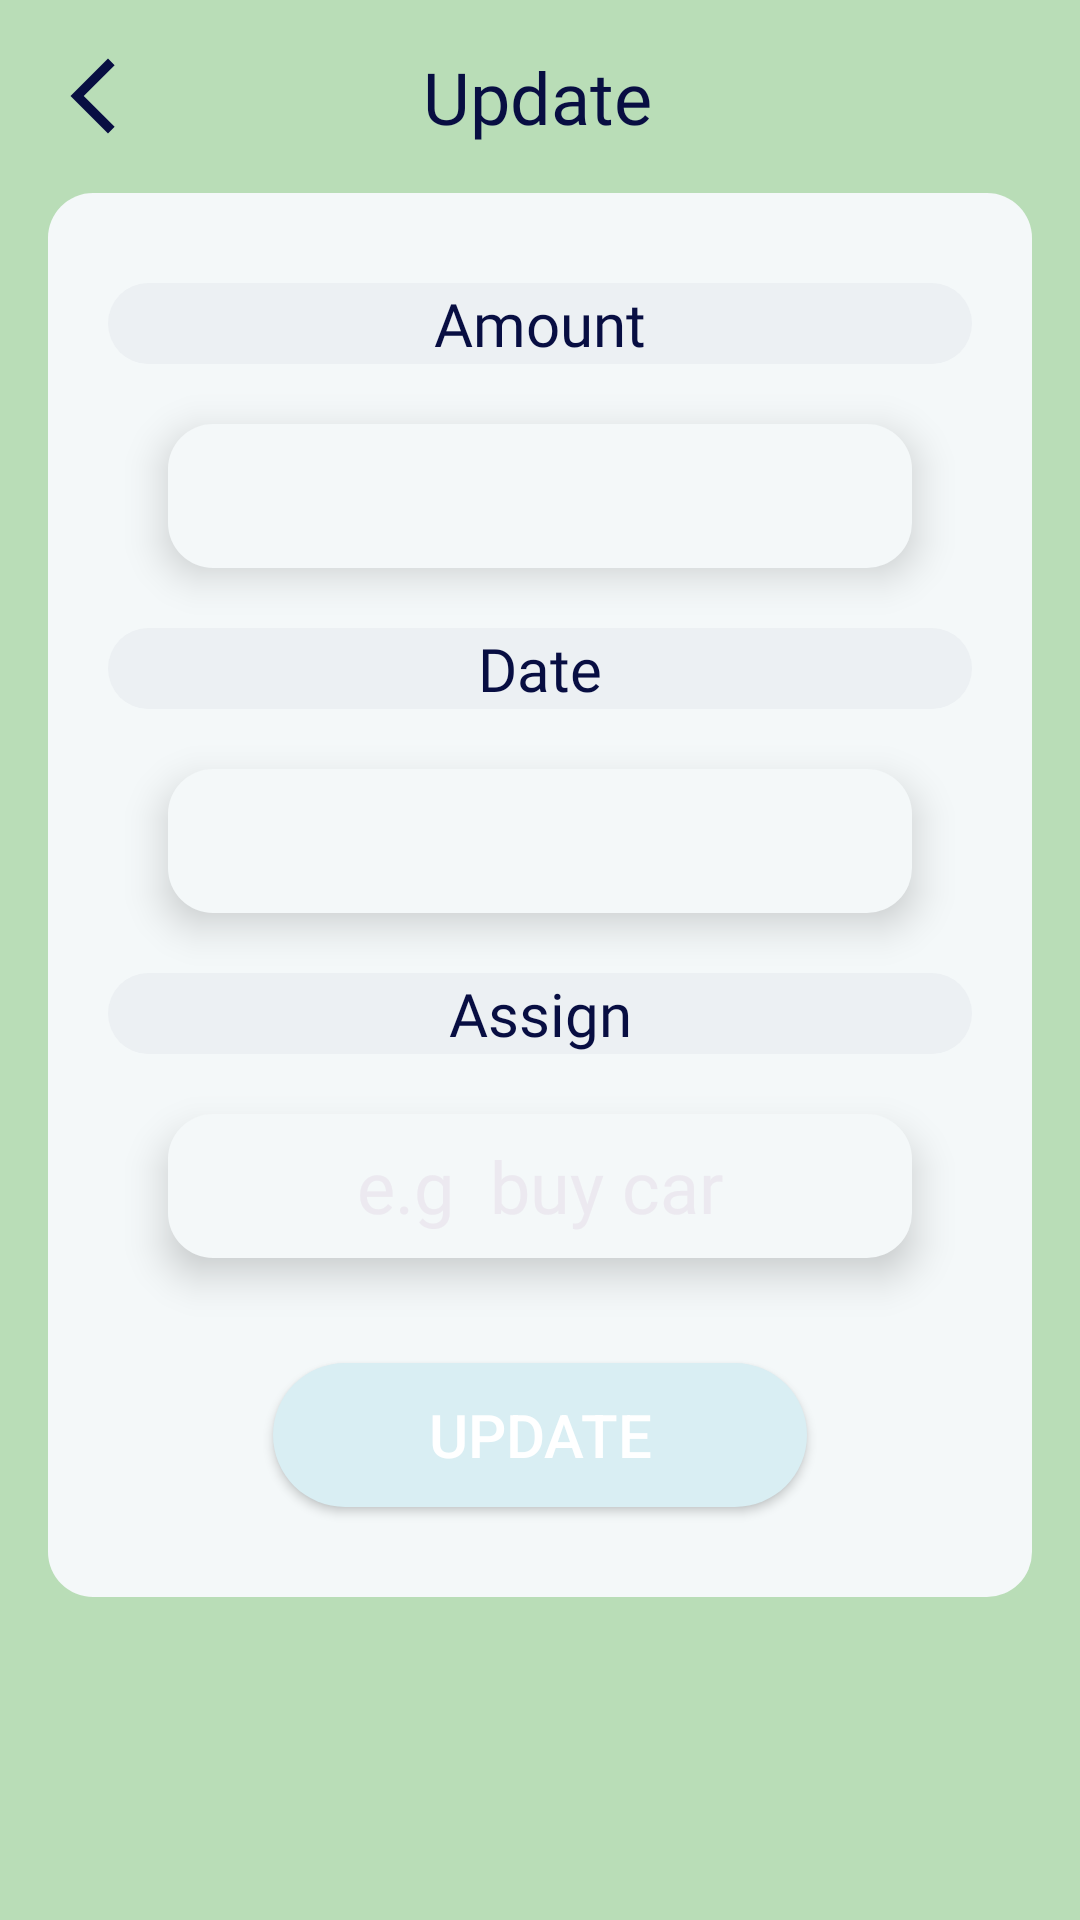

Point at icon controls on the screen. Image size 1080 x 1920, points as [x,y].
back: [92,96]
